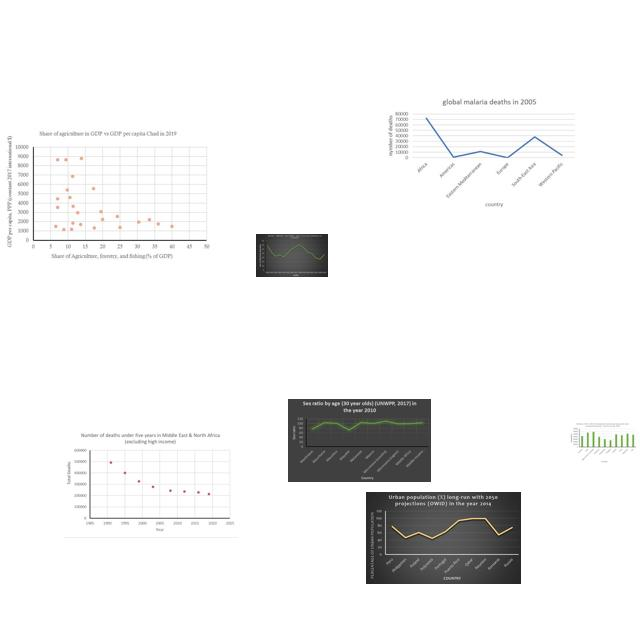Graph: (2, 123, 212, 263), (380, 94, 575, 212), (63, 429, 238, 538), (366, 492, 521, 584), (288, 399, 431, 482), (256, 234, 328, 277), (568, 422, 637, 463)
